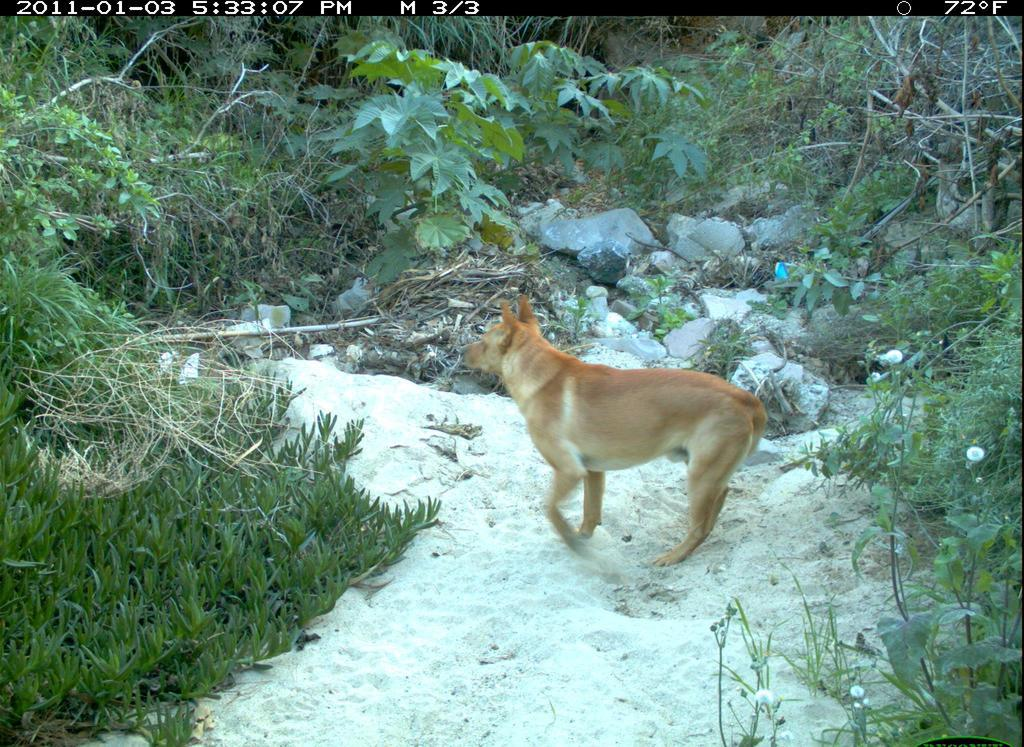dog: (455, 291, 780, 583)
